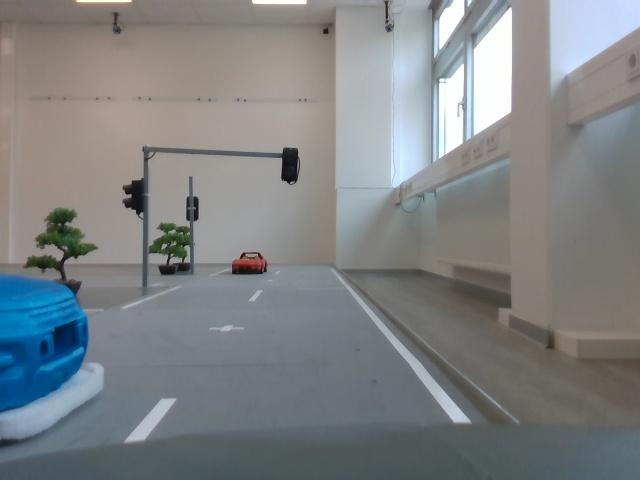car: (1, 266, 107, 449), (232, 248, 270, 279)
potted plant: (23, 204, 104, 305), (152, 218, 179, 278), (175, 226, 193, 274)
traffic light: (122, 177, 149, 220), (280, 143, 300, 190), (184, 196, 204, 226)
